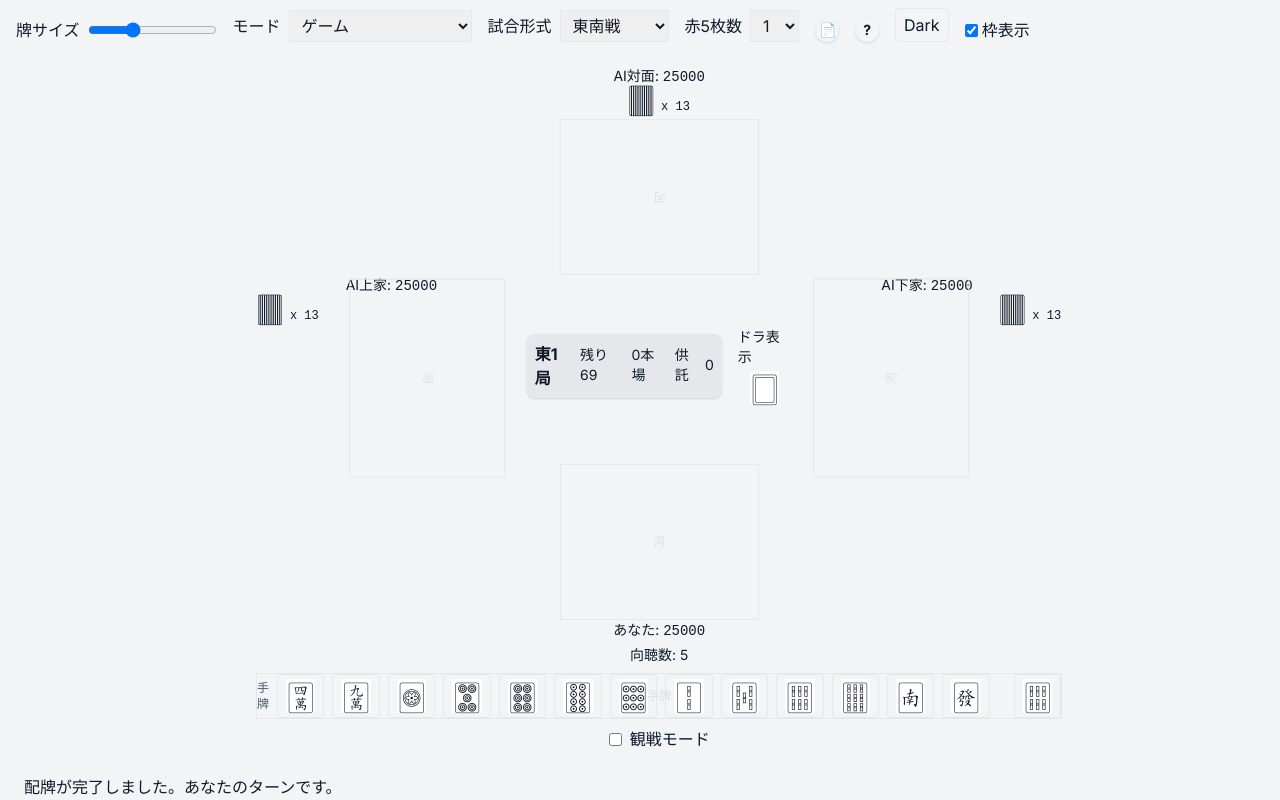
Test: red five count setting › defaults to 1 and reloads when changed
Expected: the dropdown labelled "赤5枚数" shows "1", top-left (750, 10), bottom-right (799, 42)
Click the checkbox labelled "観戦モード". click: (615, 739)
box: top-left (609, 732), bottom-right (622, 746)
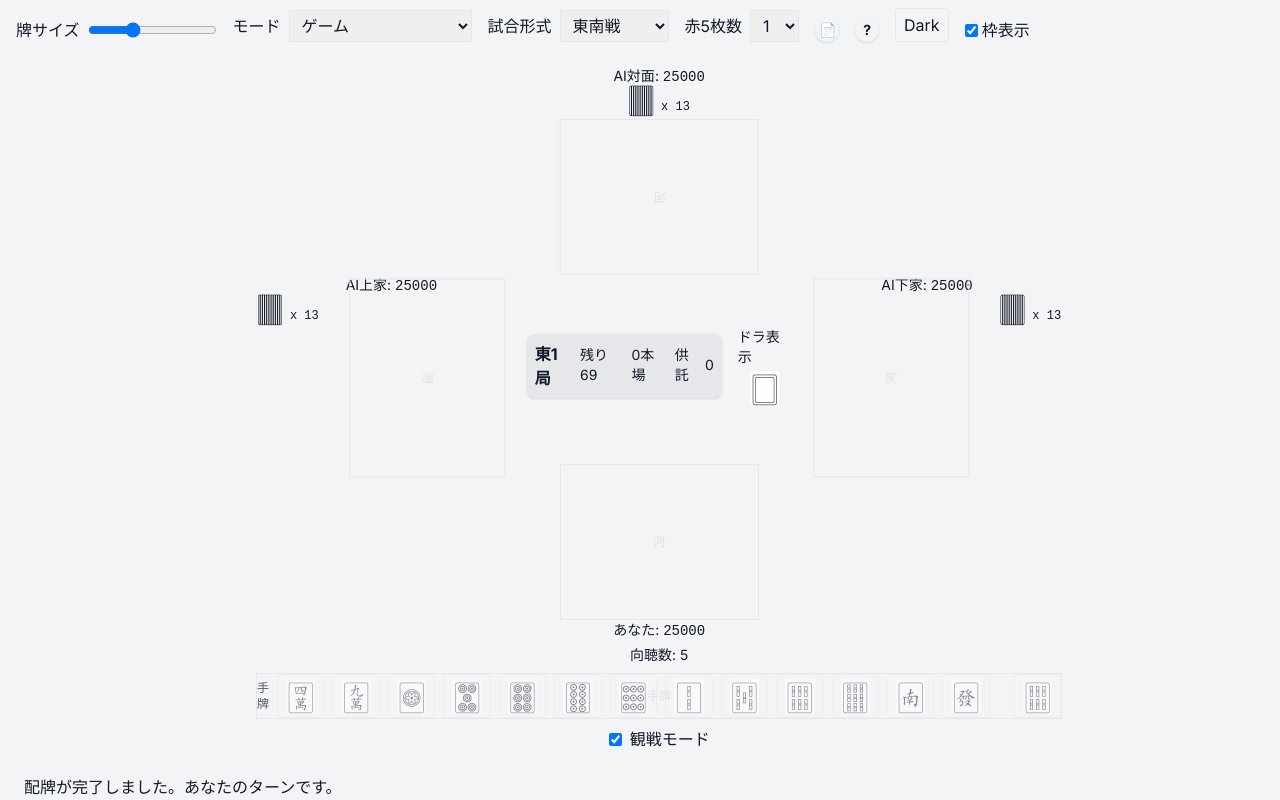
Expected: the checkbox labelled "観戦モード" is checked, top-left (609, 732), bottom-right (622, 746)
Select "2" in the dropdown labelled "赤5枚数". click: (775, 26)
box: top-left (750, 10), bottom-right (799, 42)
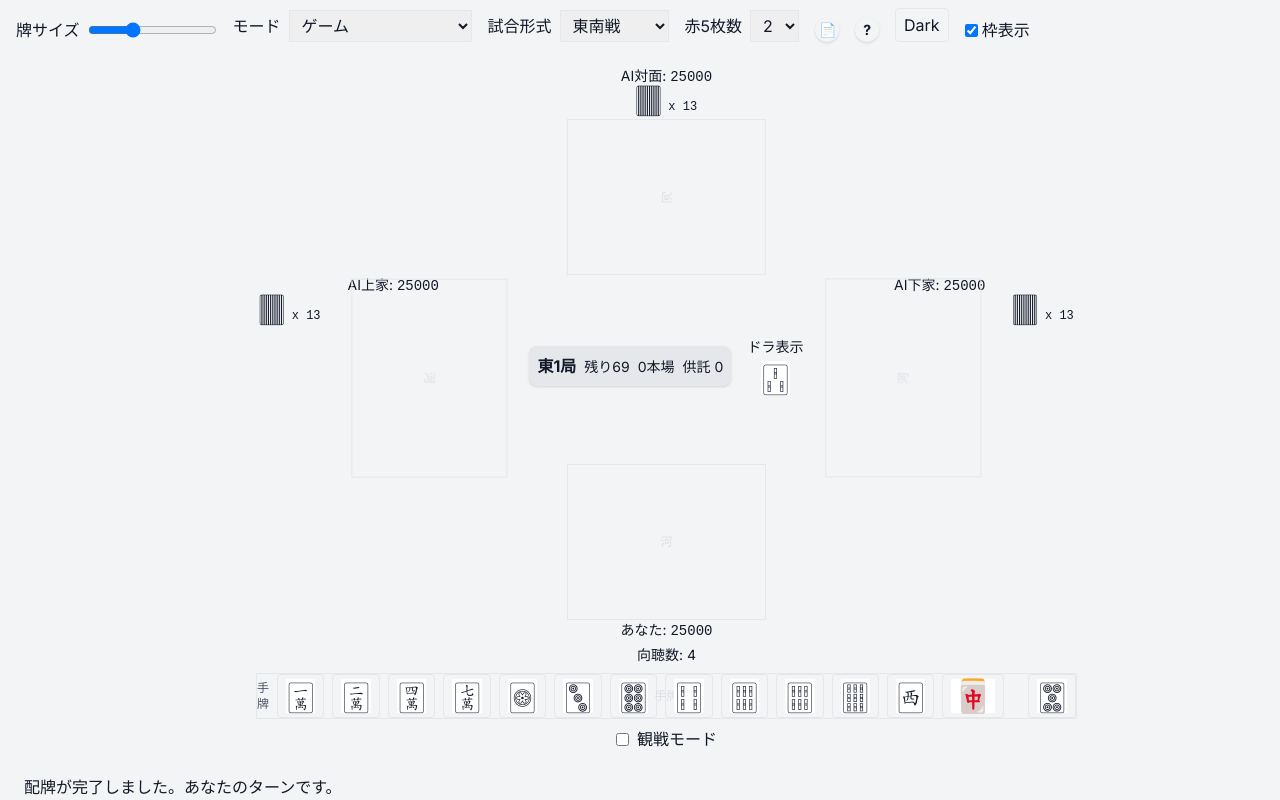
Expected: the checkbox labelled "観戦モード" is not checked, top-left (616, 732), bottom-right (629, 746)
